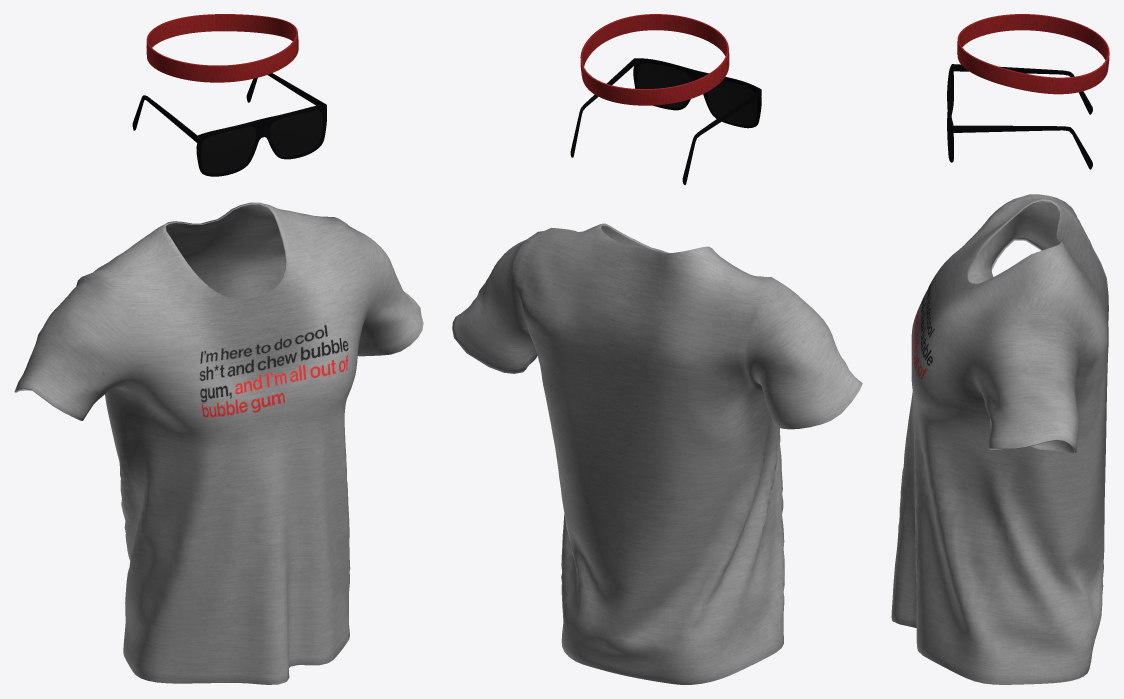
3 views of the same model, side by side, from view 1: azimuth 30°, elevation 25°; view 2: azimuth 150°, elevation 25°; view 3: azimuth 270°, elevation 25° (orthographic).
Parts seen in each view (by area): view 1: TShirt, Band, Glass, Frame; view 2: TShirt, Band, Glass, Frame; view 3: TShirt, Band, Frame.
Boxes of the visible parts, x1,y1,x2,y2 form: TShirt: [14, 202, 423, 684]; Band: [146, 14, 298, 82]; Glass: [201, 110, 323, 173]; Frame: [132, 73, 326, 176]; TShirt: [452, 223, 862, 684]; Band: [580, 14, 729, 105]; Glass: [637, 63, 757, 125]; Frame: [570, 58, 761, 184]; TShirt: [891, 194, 1108, 684]; Band: [957, 14, 1109, 94]; Frame: [948, 64, 1092, 169].
Size of the model in its own units: 0.6601 by 0.9829 by 0.3186.
Materials: 4 (2 with a texture image).
